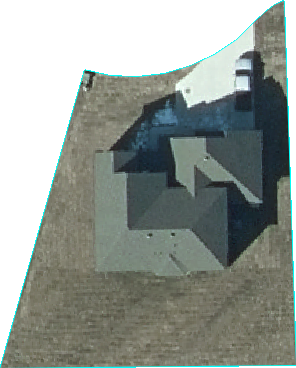house: (91, 128, 270, 277)
